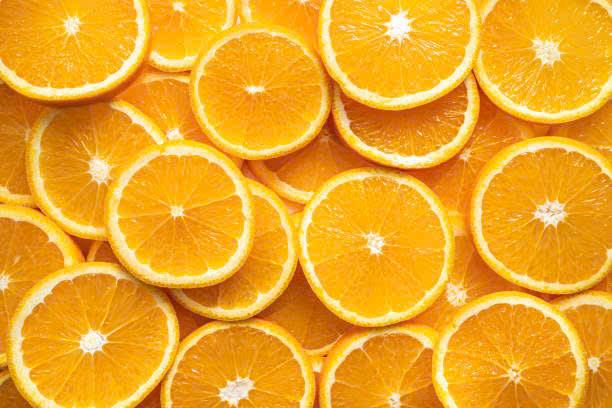orange: (298, 170, 455, 322), (10, 262, 173, 408), (109, 137, 257, 295), (467, 134, 612, 289), (185, 22, 338, 157), (430, 291, 584, 408), (480, 3, 612, 131), (319, 4, 478, 103), (1, 1, 153, 104), (163, 316, 320, 408), (28, 99, 119, 244), (317, 325, 435, 408), (8, 244, 19, 263)
